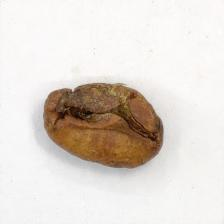NG: (45, 83, 162, 149)
